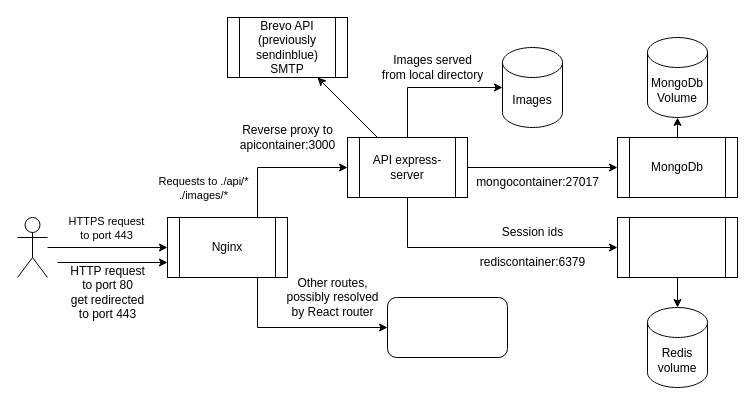
This 755x405 diagram has some shape labels left out. Here are the shapes that lost their labels. From the top down, the centre of each, then its label:
At (x=32, y=247): "Actor".
At (x=677, y=247): "Redis".
At (x=447, y=327): "Built React App".
